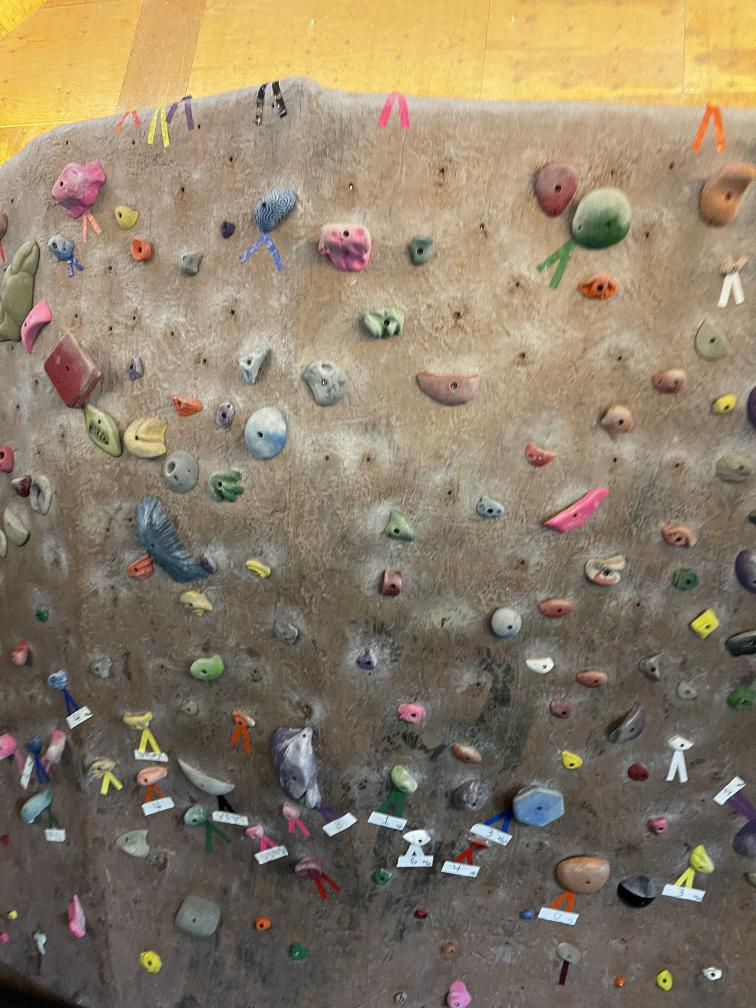Crimp: (374, 501, 425, 545), (530, 593, 578, 622), (519, 440, 563, 470), (470, 492, 508, 521), (274, 616, 302, 647), (524, 654, 560, 677), (400, 826, 434, 848), (129, 557, 154, 585), (125, 352, 146, 384), (172, 698, 205, 718), (213, 403, 239, 428), (367, 865, 394, 889), (628, 760, 650, 788), (216, 217, 242, 240), (243, 820, 266, 842), (646, 816, 670, 835), (282, 800, 299, 826), (32, 608, 54, 627)
Edges: (415, 367, 484, 411), (174, 755, 238, 799), (618, 871, 659, 912), (0, 504, 31, 552), (378, 564, 410, 603), (674, 679, 700, 705)
Foothold: (548, 937, 584, 976), (446, 977, 476, 1008), (135, 949, 164, 981), (286, 935, 314, 965), (653, 966, 677, 994), (2, 900, 25, 927), (699, 964, 726, 984), (438, 942, 461, 960), (251, 916, 273, 934), (612, 976, 628, 995), (414, 909, 433, 924), (393, 992, 411, 1007), (0, 928, 15, 946)
Hand-holds: (36, 325, 109, 416), (315, 220, 376, 278), (14, 294, 59, 362), (512, 776, 566, 831), (125, 414, 170, 466), (233, 342, 282, 385), (598, 398, 644, 439), (386, 762, 421, 800), (666, 564, 707, 595), (172, 245, 203, 283), (726, 676, 755, 714), (295, 848, 327, 882), (686, 604, 717, 639), (46, 730, 72, 770), (86, 655, 119, 683), (724, 629, 756, 657), (0, 728, 19, 768), (546, 696, 574, 720), (32, 932, 52, 959)
Jug: (685, 153, 756, 231), (564, 184, 641, 252), (520, 154, 575, 222), (555, 848, 611, 898), (353, 303, 411, 347), (609, 698, 654, 748), (16, 783, 56, 838), (688, 323, 739, 364), (177, 652, 235, 686), (712, 450, 756, 494), (582, 552, 631, 588), (658, 518, 707, 551), (646, 359, 686, 399), (573, 272, 620, 306), (708, 248, 750, 286), (400, 231, 439, 270), (208, 463, 244, 505), (684, 843, 719, 884), (174, 587, 216, 618), (241, 550, 276, 587), (122, 708, 158, 742), (457, 832, 495, 864), (393, 698, 432, 728), (637, 648, 667, 686), (46, 227, 75, 264), (572, 668, 613, 692), (352, 642, 380, 677), (84, 755, 119, 783), (8, 636, 34, 673), (709, 388, 741, 418), (108, 204, 142, 232), (229, 707, 262, 735), (449, 739, 484, 765), (168, 393, 204, 418), (180, 803, 210, 832), (128, 236, 156, 265), (666, 733, 702, 754), (45, 665, 69, 694), (559, 750, 585, 775), (10, 471, 28, 502), (26, 730, 46, 754), (515, 906, 539, 922)
Pinch: (542, 480, 616, 536), (131, 763, 171, 789)
Pocket: (162, 448, 200, 494), (30, 467, 53, 520), (0, 440, 19, 474)
Sloper: (123, 491, 211, 587), (268, 715, 330, 816), (0, 232, 44, 353), (47, 150, 106, 221), (169, 890, 231, 940), (242, 400, 292, 461), (77, 399, 124, 463), (248, 181, 300, 235), (301, 358, 351, 412), (447, 775, 494, 815), (485, 601, 526, 644), (110, 824, 155, 862), (60, 893, 93, 943), (731, 545, 756, 597)
